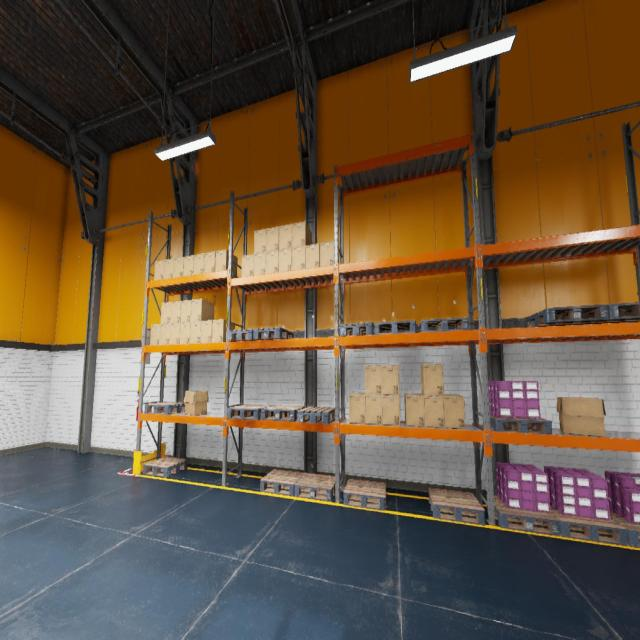box: (556, 396, 606, 437), (422, 394, 444, 428), (444, 394, 465, 429), (421, 364, 443, 395), (405, 394, 425, 426), (184, 390, 208, 416), (382, 394, 400, 426), (215, 249, 237, 275), (381, 365, 399, 395), (292, 221, 312, 247), (212, 319, 234, 342), (191, 299, 214, 321), (349, 393, 365, 424), (365, 365, 382, 394), (320, 241, 339, 266), (366, 395, 382, 424), (306, 243, 320, 268), (266, 226, 279, 252), (278, 248, 292, 272), (279, 224, 292, 249), (292, 246, 305, 270), (253, 252, 266, 275), (254, 229, 266, 253), (241, 254, 254, 276), (200, 320, 212, 343), (266, 250, 278, 273), (180, 300, 192, 322), (190, 321, 201, 343), (169, 322, 180, 344), (159, 323, 170, 345), (170, 301, 181, 323), (204, 251, 215, 273), (193, 253, 204, 274), (180, 322, 190, 344), (161, 302, 171, 324), (183, 255, 194, 275), (173, 256, 184, 276), (163, 258, 174, 278), (150, 324, 160, 345), (154, 260, 164, 280)
pallets: (550, 506, 628, 546), (486, 494, 560, 536), (428, 488, 485, 525), (527, 304, 608, 327), (483, 414, 552, 434), (343, 479, 386, 511), (260, 469, 304, 496), (609, 510, 640, 548), (295, 473, 335, 501), (593, 302, 640, 324), (143, 457, 187, 477), (418, 317, 468, 332), (227, 404, 271, 420), (261, 406, 305, 422), (298, 406, 334, 424), (374, 320, 416, 334), (254, 327, 294, 340), (144, 402, 185, 414), (340, 322, 374, 336), (227, 329, 261, 341)
